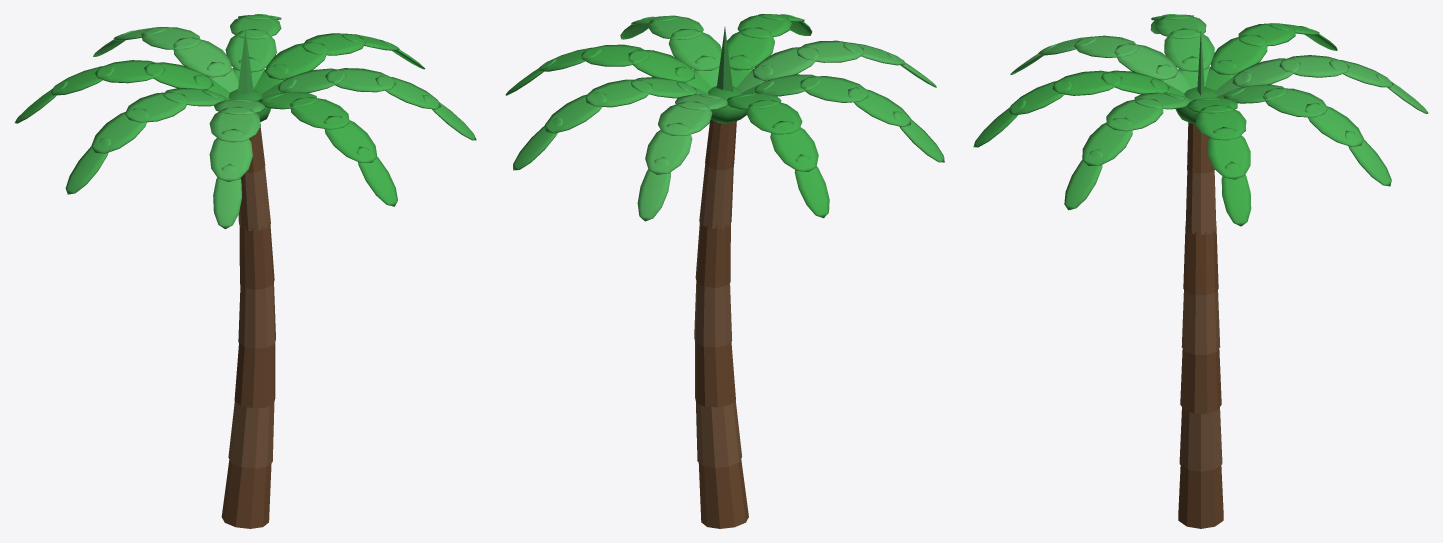
The model's file is Planta_Coconut.fbx.
3 views of the same model, side by side, from view 1: azimuth 30°, elevation 25°; view 2: azimuth 150°, elevation 25°; view 3: azimuth 270°, elevation 25° (orthographic).
Visible parts, largest first — view 1: Corpo_Coconut; view 2: Corpo_Coconut; view 3: Corpo_Coconut.
Boxes of the visible parts, x1=… form: Corpo_Coconut: x1=14, y1=14, x2=476, y2=528; Corpo_Coconut: x1=505, y1=14, x2=944, y2=528; Corpo_Coconut: x1=973, y1=14, x2=1428, y2=528.
Size of the model in its own units: 5.93 by 7.05 by 5.93.
1 material, 1 textured.
